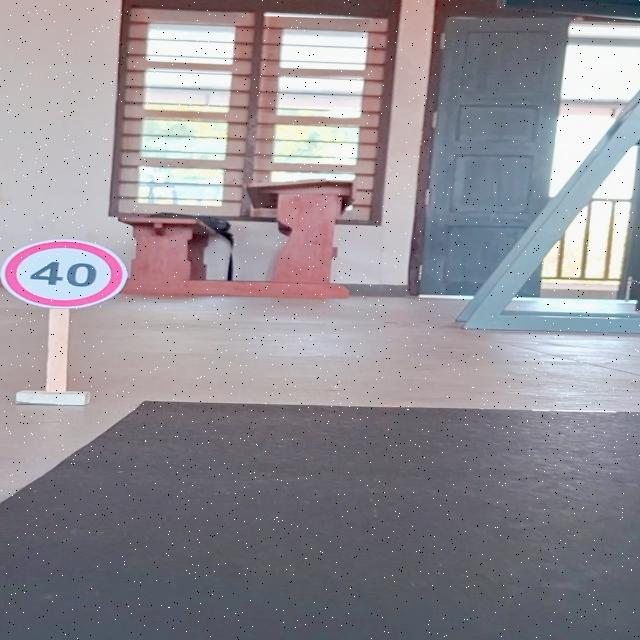Speed40: (0, 233, 132, 311)
